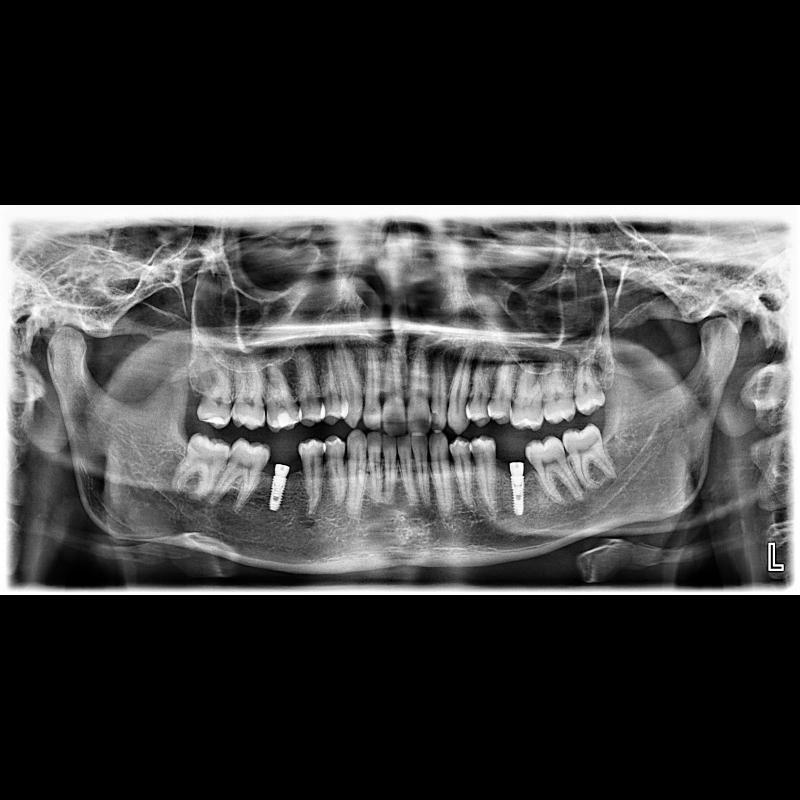osstem: (266, 472, 292, 512), (510, 476, 528, 516)
